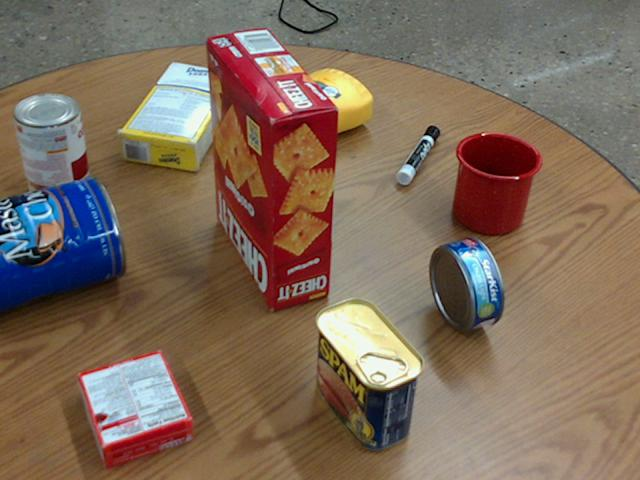cracker_box: (206, 28, 337, 309)
gelatin_box: (78, 349, 194, 467)
large_marker: (396, 125, 439, 183)
master_chef_can: (0, 175, 125, 312)
mug: (451, 131, 541, 234)
mustard_bottle: (232, 69, 372, 157)
potted_meat_can: (315, 298, 425, 451)
sugar_box: (119, 60, 238, 170)
tomato_soup_can: (14, 93, 90, 206)
tuna_fish_can: (430, 236, 503, 331)
